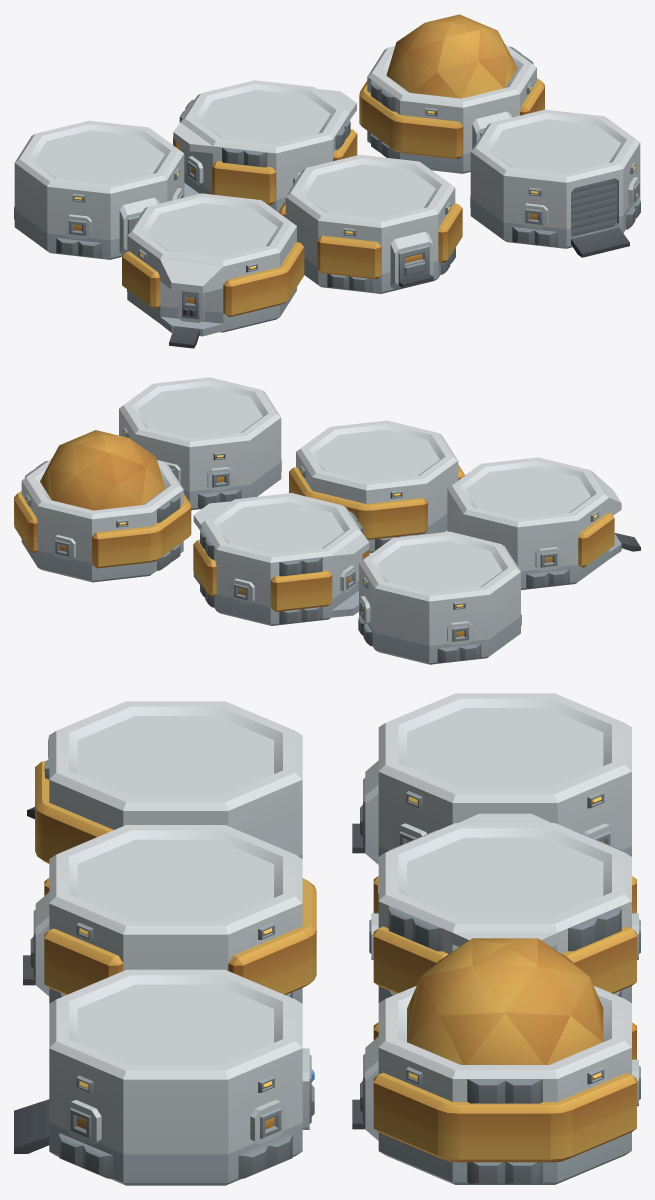
Rendered from Space Base Modules-transformed.glb.
3 views of the same model, one above another, from view 1: azimuth 30°, elevation 25°; view 2: azimuth 150°, elevation 25°; view 3: azimuth 270°, elevation 25° (orthographic). The views are drawn at different scales.
Parts seen in each view (by area): view 1: basemodule_A; view 2: basemodule_A; view 3: basemodule_A.
Part boxes in pixels (x1,y1,x2,y2): basemodule_A: (14, 14, 640, 348); basemodule_A: (14, 377, 640, 664); basemodule_A: (14, 693, 640, 1185).
Bounding box in the file's own units: 7.29 × 1.65 × 4.95.
Materials: 1 (1 with a texture image).
